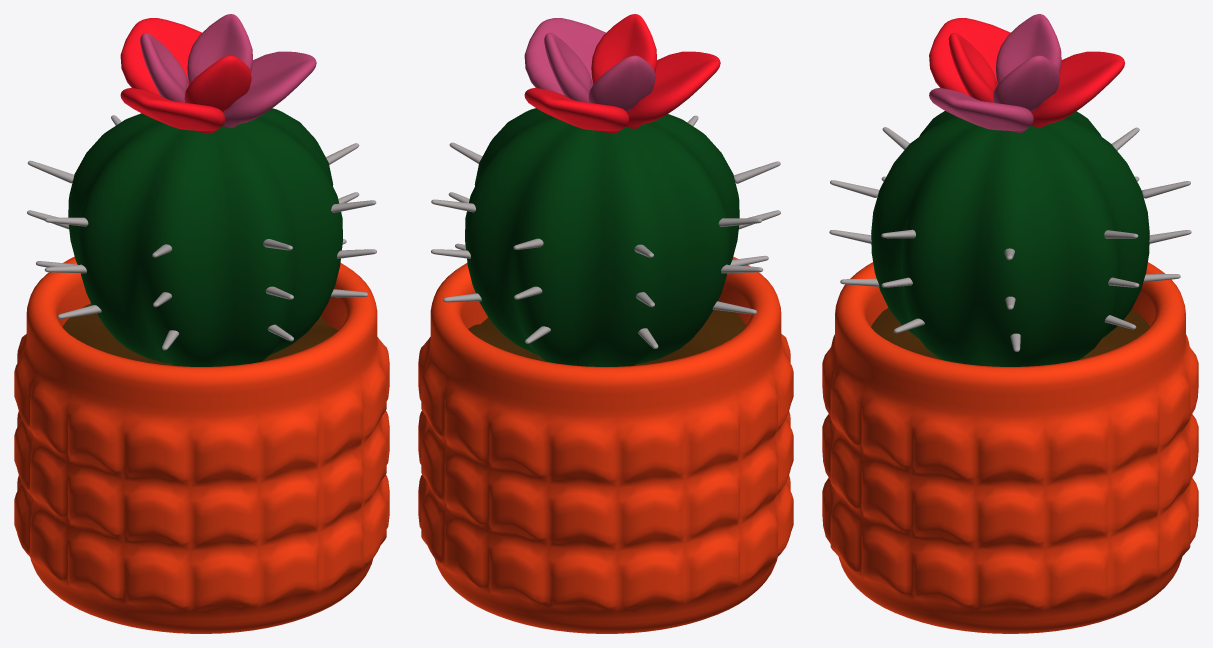
File: Cactus 2.fbx
The picture shows the model from 3 angles, left to right: view 1: azimuth 30°, elevation 25°; view 2: azimuth 150°, elevation 25°; view 3: azimuth 270°, elevation 25°; orthographic projection.
Parts seen in each view (by area): view 1: ramakin, cactus, petal_2, petal_1, dirt, petal_3, petal_4, petal_5, petal_6; view 2: ramakin, cactus, petal_3, petal_2, dirt, petal_1, petal_5, petal_6, petal_4; view 3: ramakin, cactus, petal_1, petal_3, petal_2, petal_6, petal_4, dirt, petal_5.
Boxes of the visible parts, left/top/right/bottom form: ramakin: left=14, top=256, right=389, bottom=633; cactus: left=68, top=108, right=342, bottom=366; petal_2: left=223, top=51, right=316, bottom=128; petal_1: left=120, top=18, right=201, bottom=95; dirt: left=62, top=303, right=338, bottom=365; petal_3: left=120, top=88, right=225, bottom=133; petal_4: left=187, top=14, right=253, bottom=84; petal_5: left=184, top=55, right=251, bottom=111; petal_6: left=140, top=33, right=189, bottom=102; ramakin: left=418, top=256, right=793, bottom=633; cactus: left=465, top=108, right=739, bottom=366; petal_3: left=626, top=51, right=720, bottom=128; petal_2: left=524, top=18, right=605, bottom=95; dirt: left=468, top=309, right=746, bottom=365; petal_1: left=524, top=88, right=629, bottom=133; petal_5: left=591, top=14, right=657, bottom=84; petal_6: left=588, top=55, right=655, bottom=111; petal_4: left=544, top=33, right=593, bottom=102; ramakin: left=822, top=262, right=1198, bottom=633; cactus: left=871, top=111, right=1149, bottom=366; petal_1: left=1031, top=51, right=1124, bottom=127; petal_3: left=929, top=18, right=1010, bottom=95; petal_2: left=929, top=88, right=1033, bottom=132; petal_6: left=996, top=14, right=1061, bottom=83; petal_4: left=993, top=55, right=1060, bottom=111; dirt: left=871, top=307, right=1149, bottom=360; petal_5: left=948, top=32, right=997, bottom=102.
Size of the model in its own units: 2.5 by 3.95 by 2.5.
